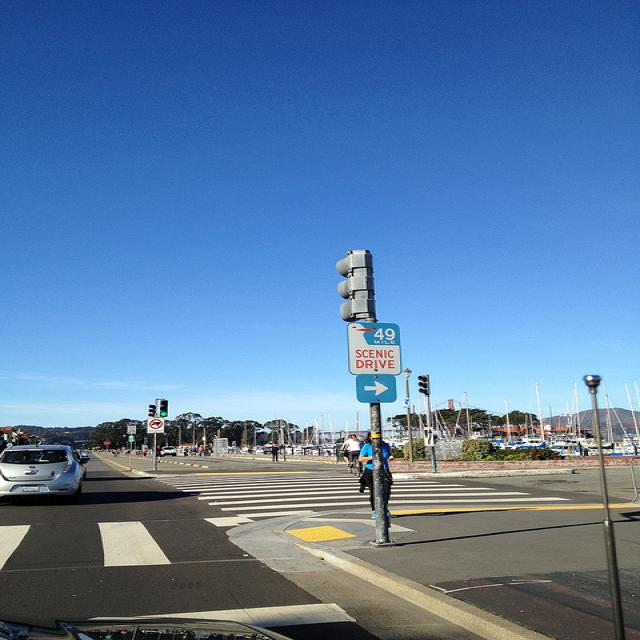Vehicle: (0, 444, 90, 500), (160, 446, 177, 457), (81, 453, 88, 457)
